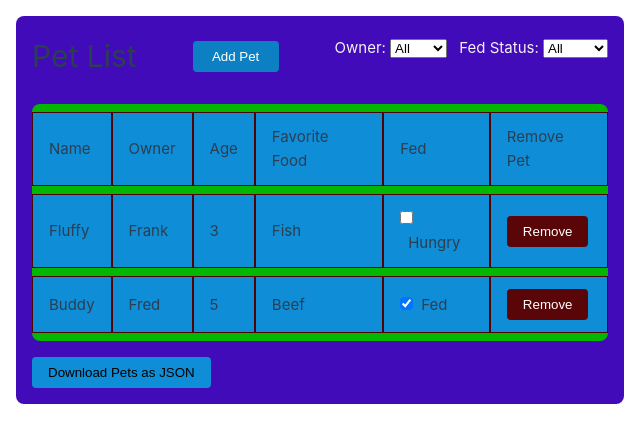
Test: PetList.vue › can filter by owner
Select "Frank" in the dropdown labelled "Owner:" at point(419, 48), box [390,39,447,58]
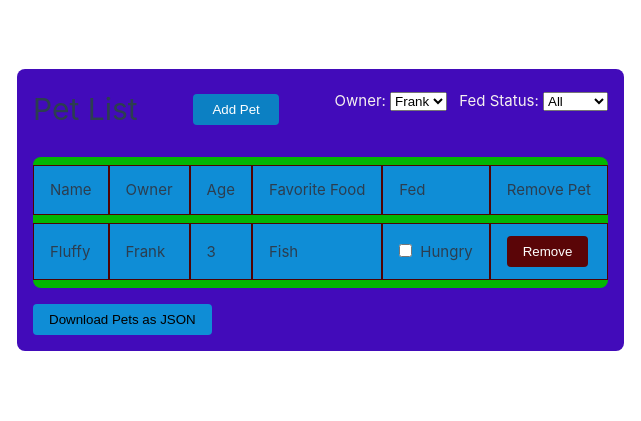
expect the text "Fluffy" is shown: met, box [33,223,109,280]
expect the text "Buddy" is gone: met
